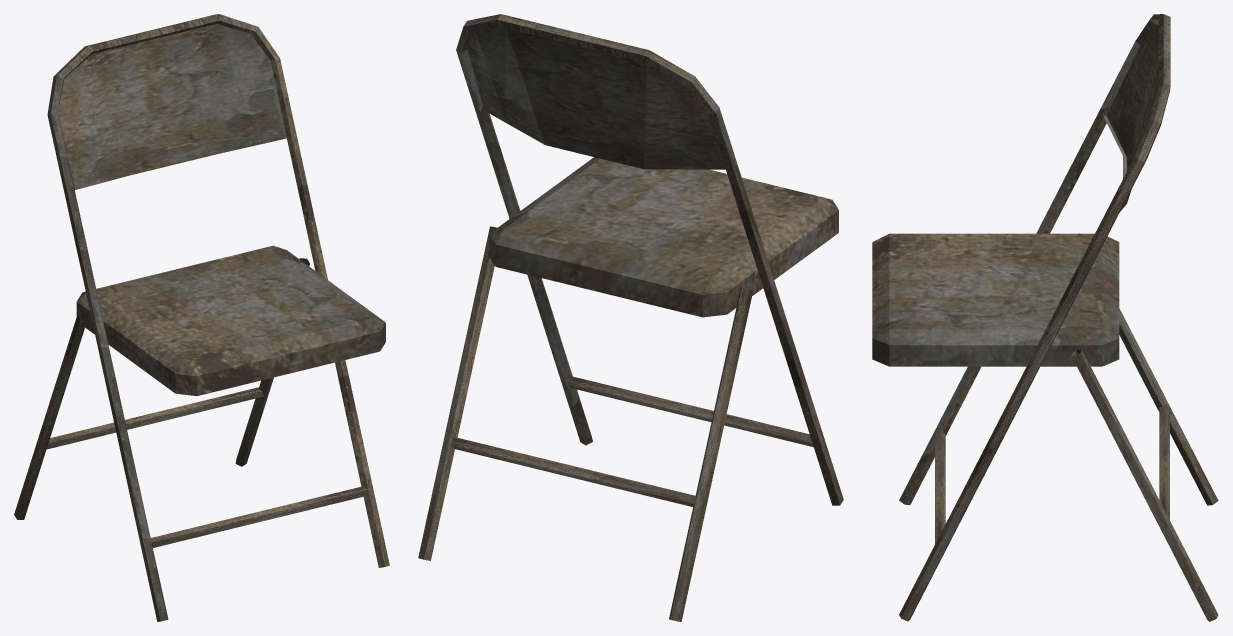
The model's file is kede.obj.
The picture shows the model from 3 angles, left to right: view 1: azimuth 30°, elevation 25°; view 2: azimuth 150°, elevation 25°; view 3: azimuth 270°, elevation 25°; orthographic projection. The views are drawn at different scales.
Size of the model in its own units: 0.4595 by 0.9149 by 0.5579.
1 material, 1 textured.
